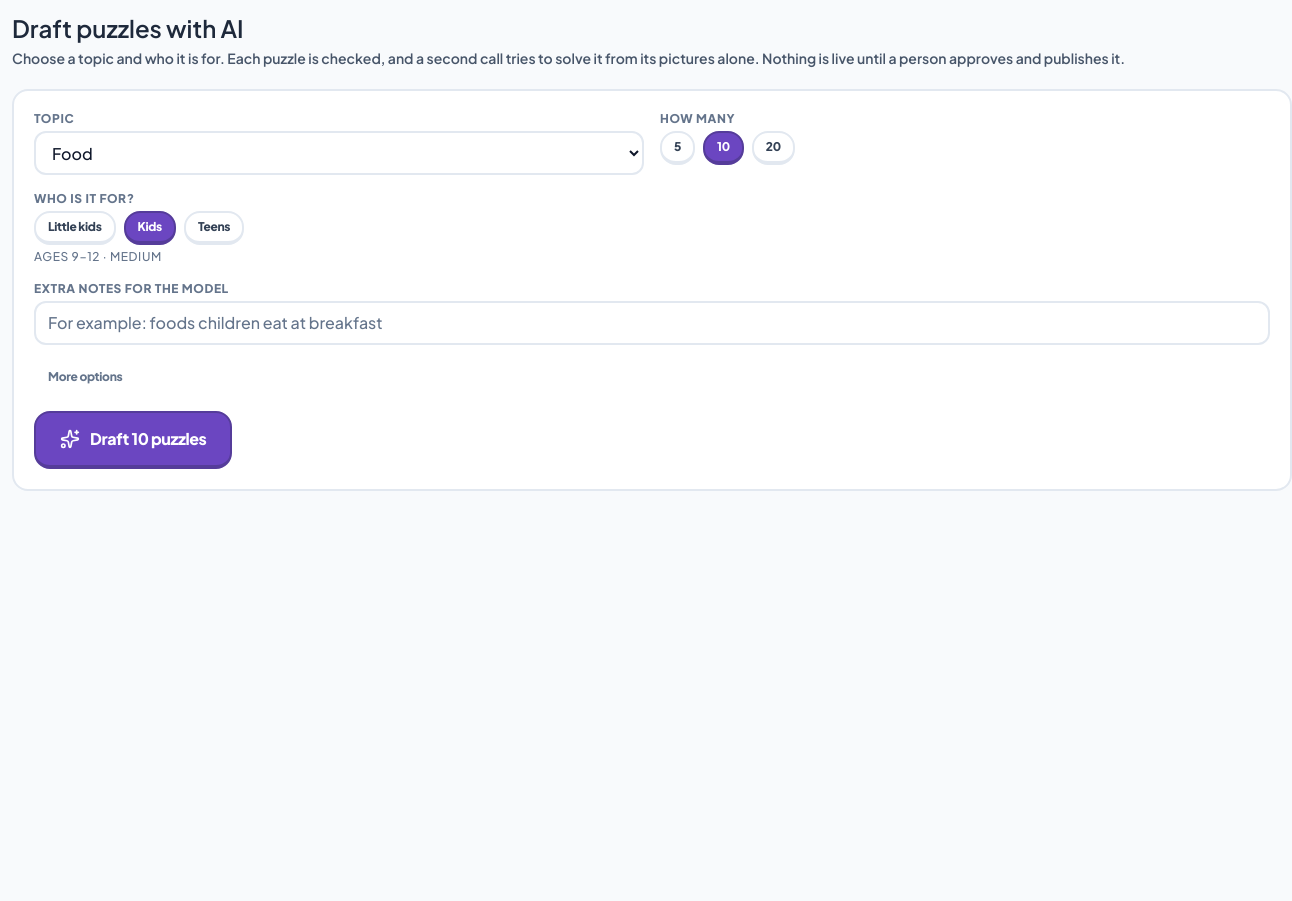
Scenario: the Generate tab › stops and says how far it got when saving fails part-way
Click the button "Draft 10 puzzles".
click(133, 440)  # box [34,411,232,469]
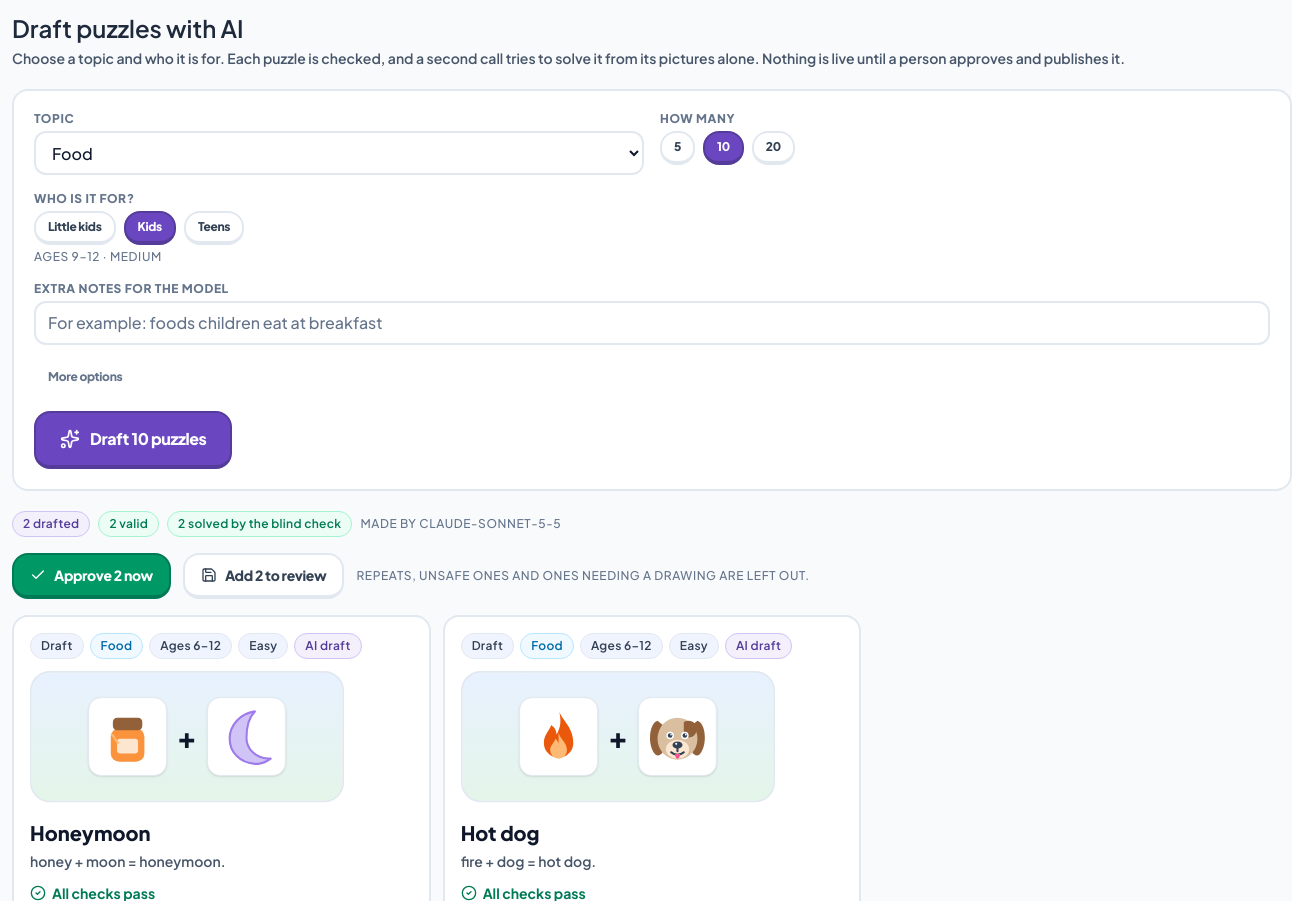
Click the button "Add 2 to review".
click(264, 576)  # box [183,553,344,599]
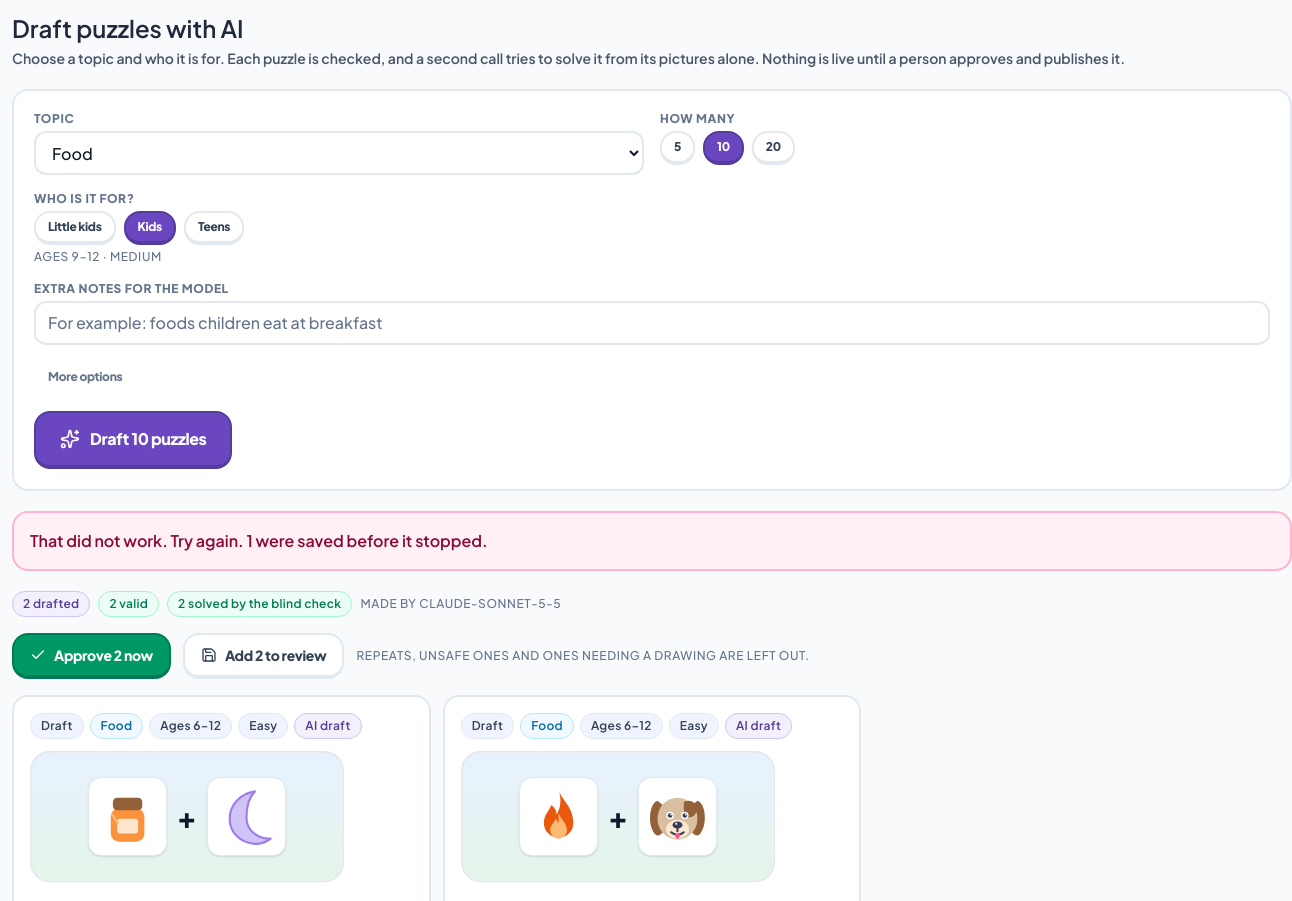
Expected: the text "That did not work. Try again. 1 were saved before it stopped." is shown, [12,511,1291,571]
